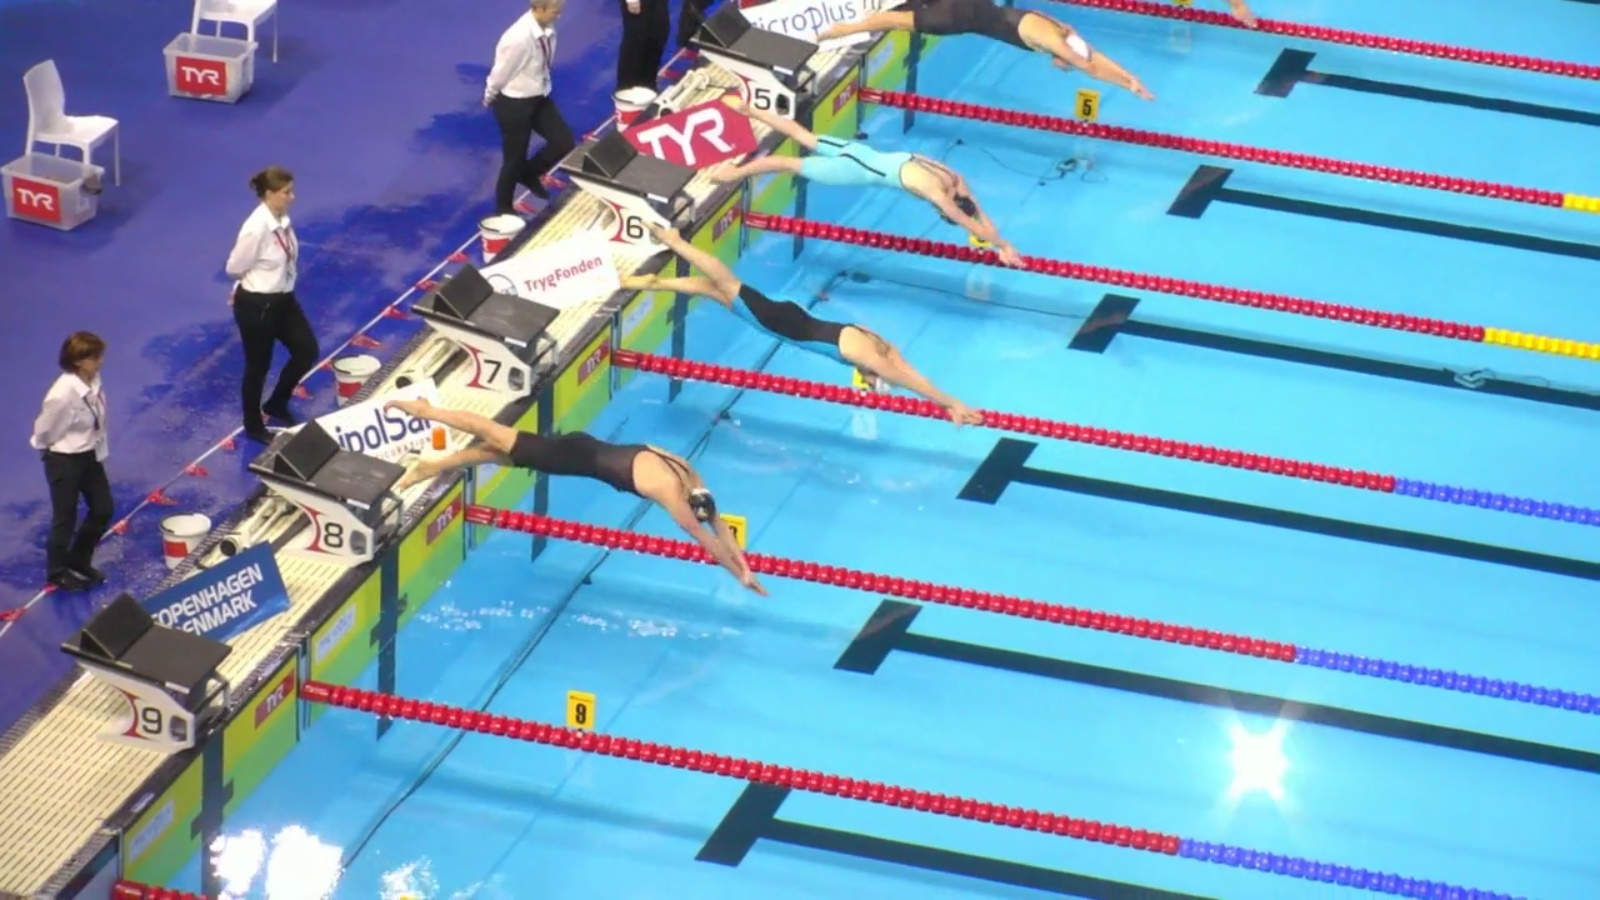swimmerw: (387, 392, 771, 599), (614, 216, 982, 432), (707, 92, 1023, 268), (811, 1, 1154, 100)
